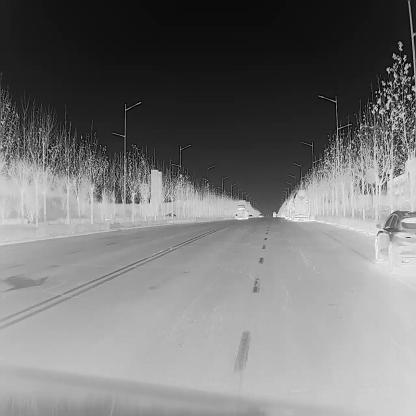car: (373, 209, 416, 271), (292, 188, 310, 222), (236, 200, 250, 220), (287, 197, 295, 220), (163, 211, 177, 219), (280, 211, 285, 219), (273, 211, 277, 217), (259, 213, 263, 218), (249, 214, 253, 218)
